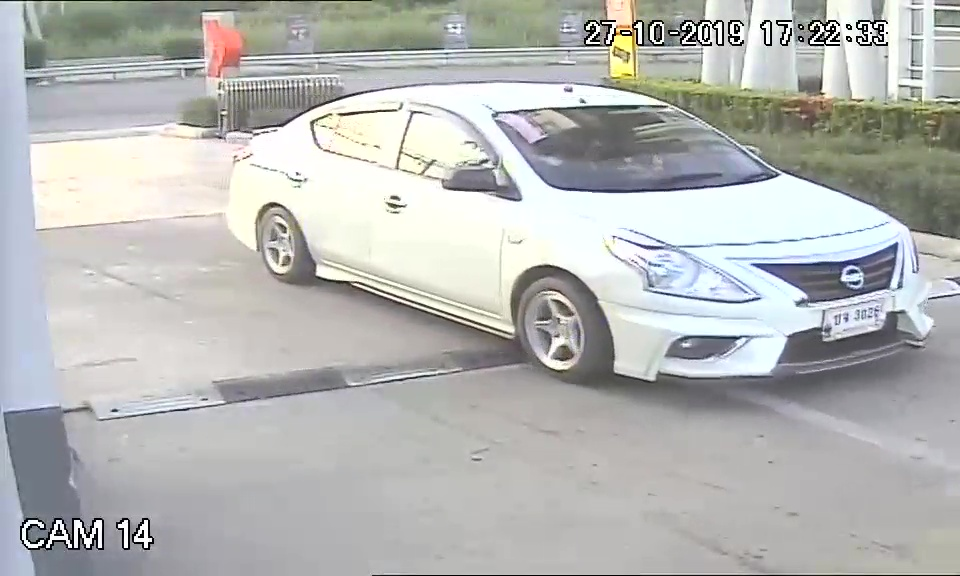sedan: (223, 77, 939, 385)
